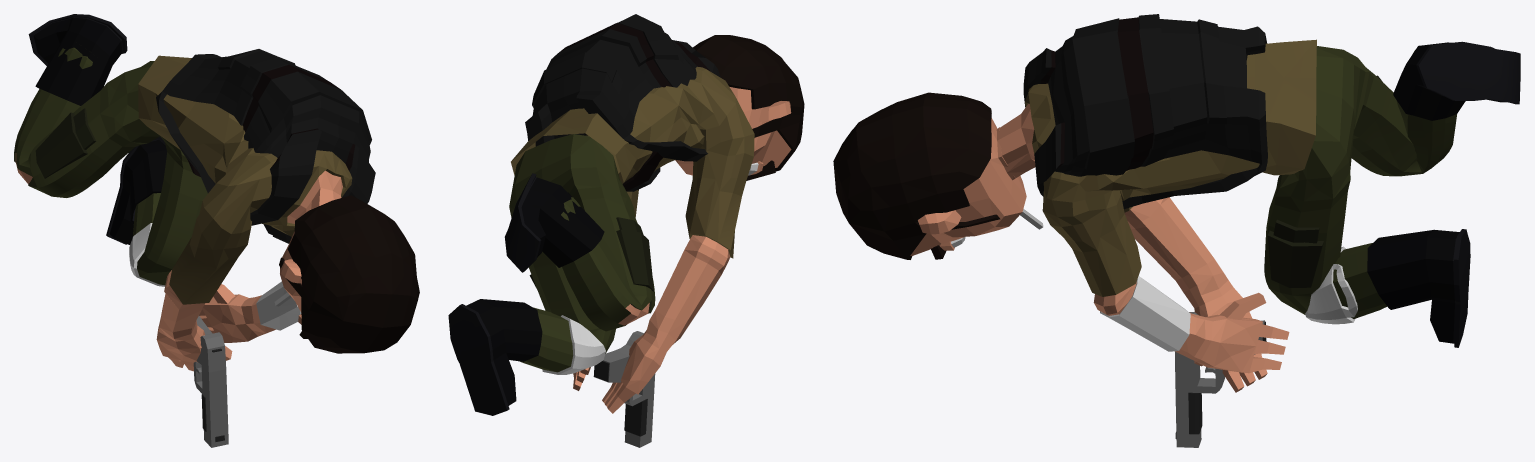
The model's file is frame_0003.obj.
3 renders of one model, left to right at view 1: azimuth 30°, elevation 25°; view 2: azimuth 150°, elevation 25°; view 3: azimuth 270°, elevation 25°, orthographic. The views are drawn at different scales.
Parts seen in each view (by area): view 1: Body, Gun; view 2: Body, Gun; view 3: Body, Gun.
Boxes of the visible parts, x1,y1,x2,y2 form: Body: (14, 14, 419, 371); Gun: (193, 316, 228, 447); Body: (448, 14, 804, 415); Gun: (593, 331, 655, 447); Body: (833, 14, 1520, 392); Gun: (1175, 312, 1266, 447).
Bounding box in the file's own units: 1.42 × 2.41 × 3.39.
